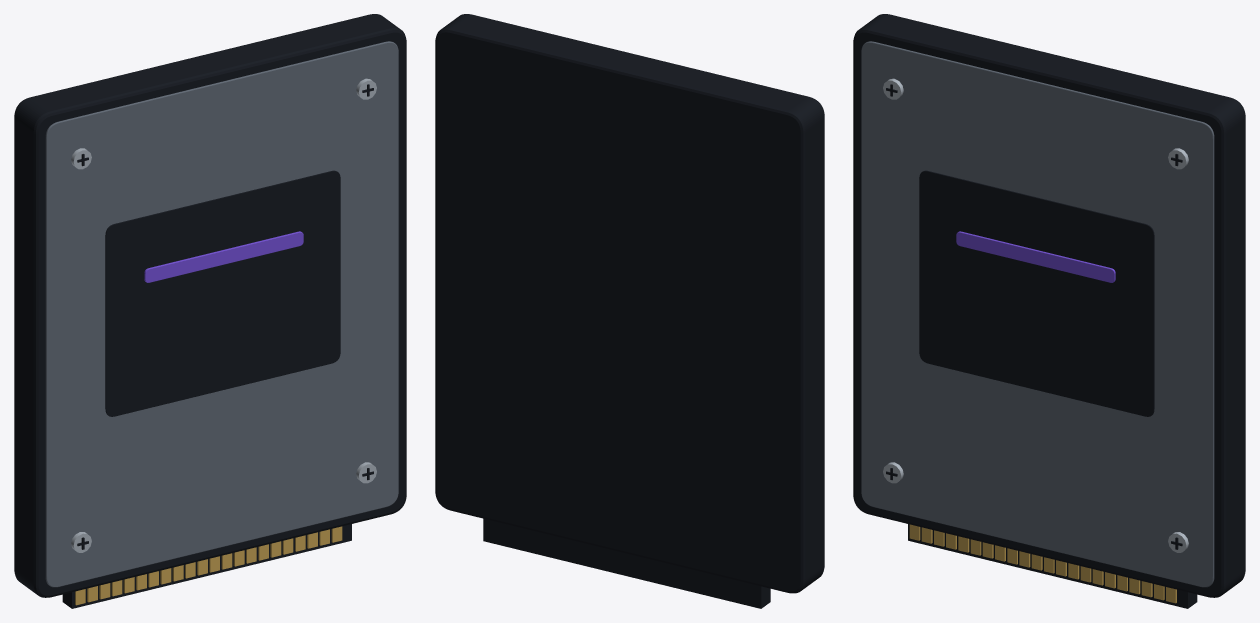
Rendered from nexrig-sata.glb.
3 views of the same model, side by side, from view 1: azimuth 30°, elevation 25°; view 2: azimuth 150°, elevation 25°; view 3: azimuth 330°, elevation 25° (orthographic).
Parts seen in each view (by area): view 1: Original generic SATA SSD; view 2: Original generic SATA SSD; view 3: Original generic SATA SSD.
Part boxes in pixels (x1,y1,x2,y2): Original generic SATA SSD: [14, 14, 406, 608]; Original generic SATA SSD: [435, 14, 824, 608]; Original generic SATA SSD: [853, 14, 1245, 608].
Bounding box in the file's own units: 0.732 × 0.9585 × 0.0915.
